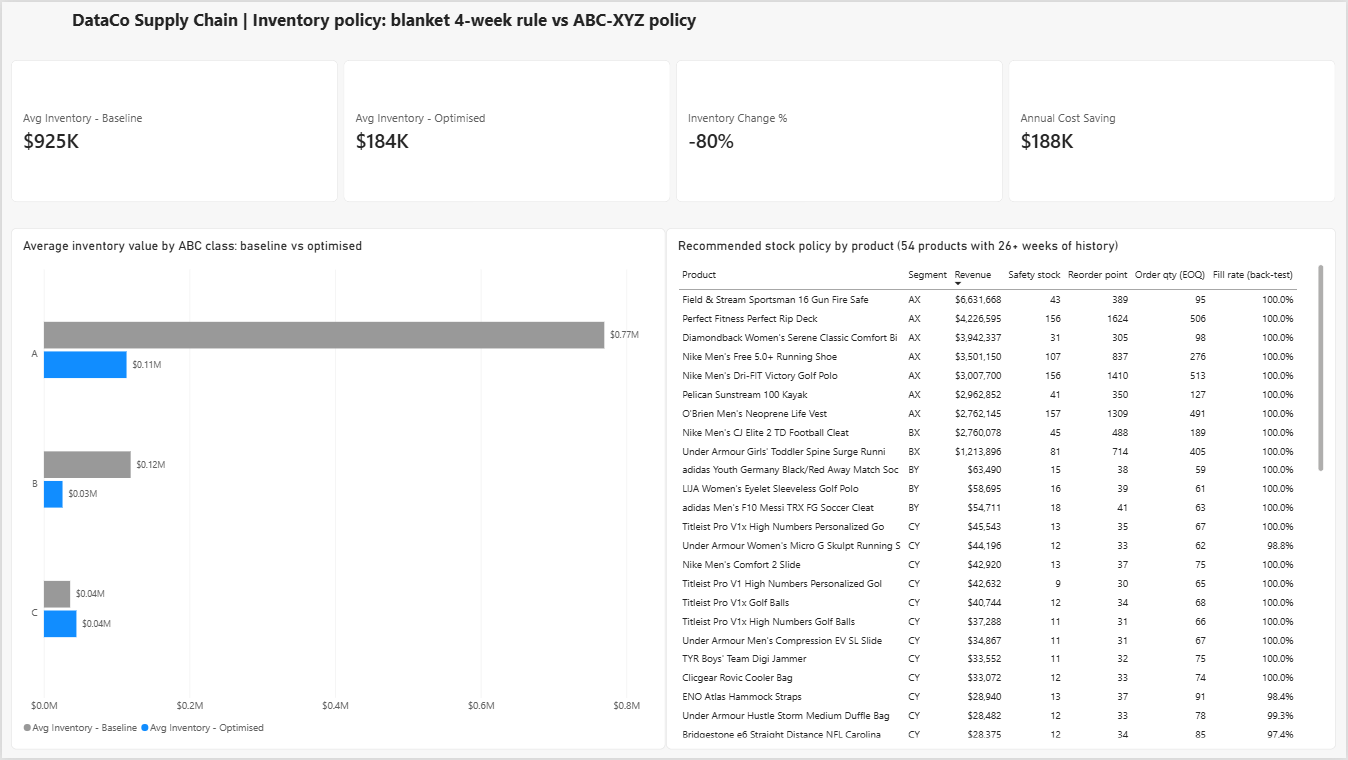

The dashboard page shown, as its layout file describes it:
{"tool":"powerbi","page":{"name":"Inventory Policy","canvas":[1920,1080],"ordinal":0},"visuals":[{"type":"cardVisual","fields":{"Data":["InventoryComparison.Avg Inventory - Baseline","InventoryComparison.Avg Inventory - Optimised","InventoryComparison.Inventory Change %","InventoryComparison.Annual Cost Saving"]},"box":[13.5,82.1,1892,203.3],"z":0},{"type":"clusteredBarChart","title":"Average inventory value by ABC class: baseline vs optimised","fields":{"Category":["InventoryComparison.abc"],"Y":["InventoryComparison.Avg Inventory - Baseline","InventoryComparison.Avg Inventory - Optimised"]},"box":[13.5,323.2,934.6,744.7],"z":1},{"type":"tableEx","title":"Recommended stock policy by product (54 products with 26+ weeks of history)","fields":{"Values":["InventoryPolicy.product_name","InventoryPolicy.segment","Sum(InventoryPolicy.revenue)","Sum(InventoryPolicy.safety_stock)","Sum(InventoryPolicy.reorder_point)","Sum(InventoryPolicy.eoq)","Avg(InventoryPolicy.fill_rate_opt)"]},"box":[948,323,957,745],"z":2},{"type":"textbox","box":[100,8,1240,45],"z":3}]}

Visuals, with their boxes in screenshot pixels (x1, y1, x2, y2), scaled from the page's 1920x1080 canvas onto the 1348x760 screenshot:
cardVisual - InventoryComparison.Avg Inventory - Baseline x InventoryComparison.Avg Inventory - Optimised: select_region(9, 58, 1338, 201)
"Average inventory value by ABC class: baseline vs optimised" clusteredBarChart: select_region(9, 227, 666, 751)
"Recommended stock policy by product (54 products with 26+ weeks of history)" tableEx: select_region(666, 227, 1337, 752)
textbox: select_region(70, 6, 941, 37)
